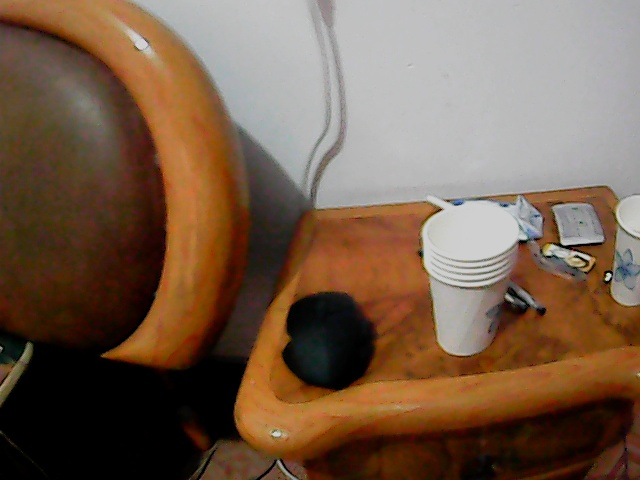cup: (420, 201, 516, 358)
mouse: (280, 286, 375, 389)
